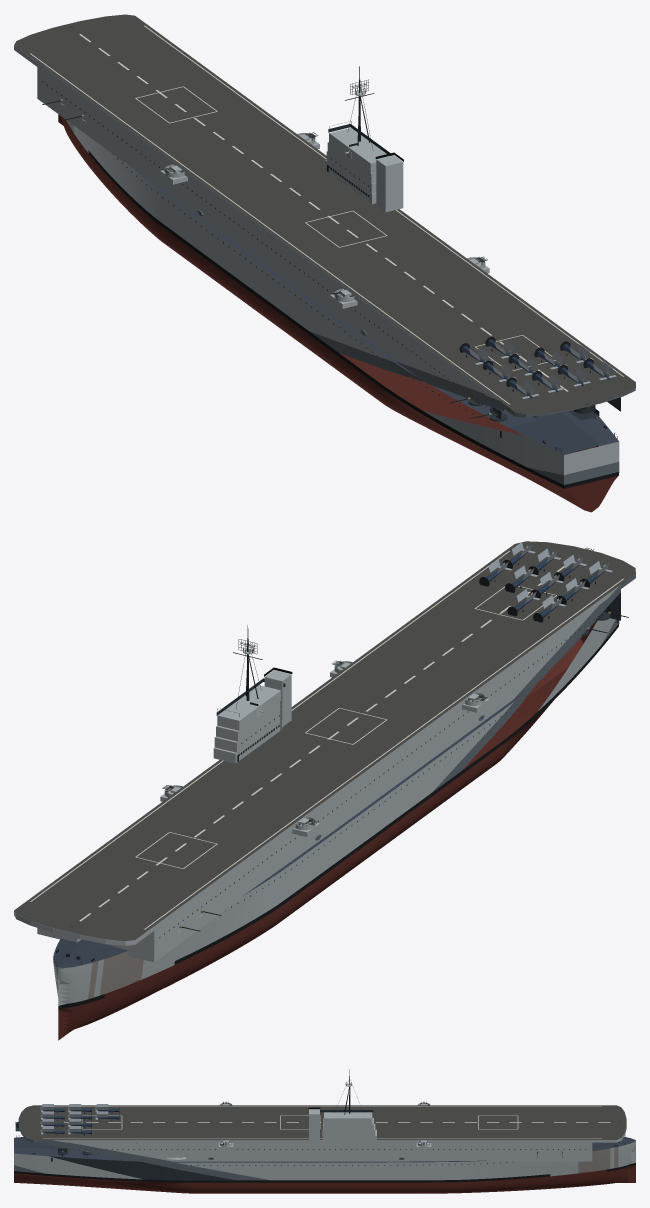
The model's file is yorktown_m22.glb.
3 renders of one model, top to bottom at view 1: azimuth 30°, elevation 25°; view 2: azimuth 150°, elevation 25°; view 3: azimuth 270°, elevation 25°, orthographic. The views are drawn at different scales.
Parts seen in each view (by area): view 1: Hull; view 2: Hull; view 3: Hull.
Boxes of the visible parts, left/top/right/bottom form: Hull: left=14, top=14, right=635, bottom=512; Hull: left=14, top=541, right=635, bottom=1040; Hull: left=14, top=1069, right=635, bottom=1193.
Size of the model in its own units: 43 by 57.72 by 251.
